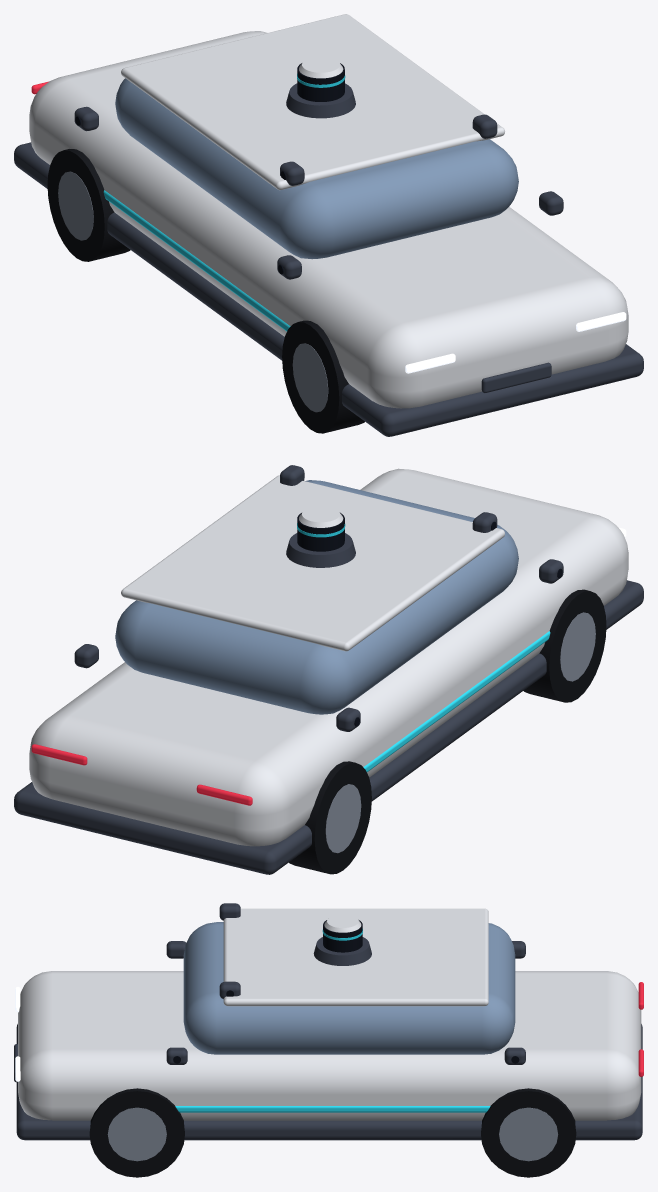
The model's file is robotaxi.glb.
3 views of the same model, one above another, from view 1: azimuth 30°, elevation 25°; view 2: azimuth 150°, elevation 25°; view 3: azimuth 270°, elevation 25° (orthographic). The views are drawn at different scales.
Parts seen in each view (by area): view 1: shell, roof, cabin, rocker, wheel0, wheel2, lidarHead, stripe, lidarBase, radar; view 2: shell, roof, cabin, rocker, wheel2, wheel0, lidarHead, stripe, lidarBase; view 3: shell, roof, cabin, rocker, wheel1, wheel3, stripe, lidarHead, lidarBase.
Boxes of the visible parts, x1,y1,x2,y2 form: shell: (29, 31, 628, 408); roof: (121, 14, 504, 190); cabin: (115, 78, 518, 259); rocker: (14, 142, 643, 436); wheel0: (282, 320, 364, 433); wheel2: (47, 149, 130, 261); lidarHead: (297, 56, 345, 101); stripe: (103, 190, 290, 331); lidarBase: (286, 83, 355, 118); radar: (481, 362, 551, 393); shell: (29, 468, 628, 846); roof: (121, 475, 504, 651); cabin: (115, 480, 518, 714); rocker: (14, 580, 643, 874); wheel2: (289, 761, 371, 874); wheel0: (523, 589, 606, 702); lidarHead: (297, 506, 345, 551); stripe: (363, 631, 550, 772); lidarBase: (286, 533, 355, 567); shell: (18, 971, 641, 1120); roof: (223, 908, 488, 1006); cabin: (183, 922, 515, 1054); rocker: (16, 1024, 642, 1140); wheel1: (89, 1088, 184, 1177); wheel3: (481, 1088, 576, 1177); stripe: (175, 1106, 490, 1112); lidarHead: (322, 914, 362, 952); lidarBase: (313, 937, 371, 965).
Size of the model in its own units: 2.03 by 1.68 by 4.75.
